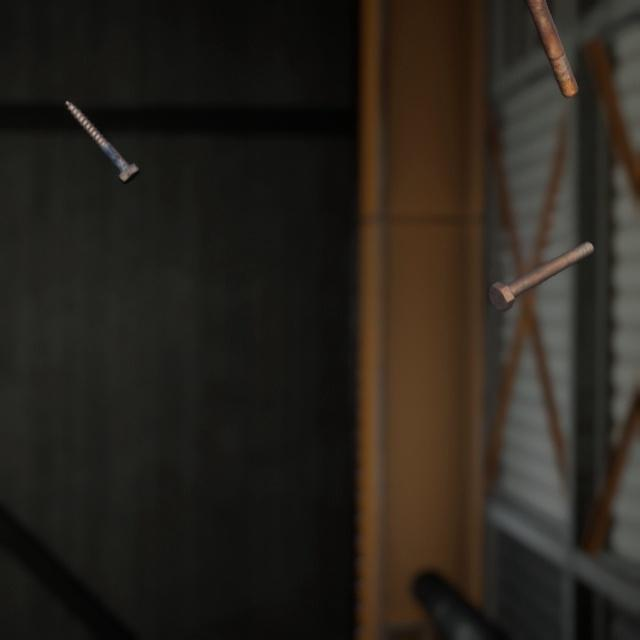bolt: (483, 220, 598, 298), (61, 83, 144, 175), (523, 0, 582, 94)
